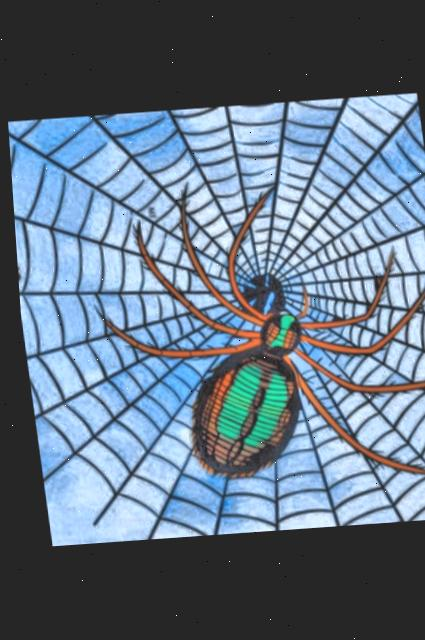La Arana: (5, 92, 425, 545)
